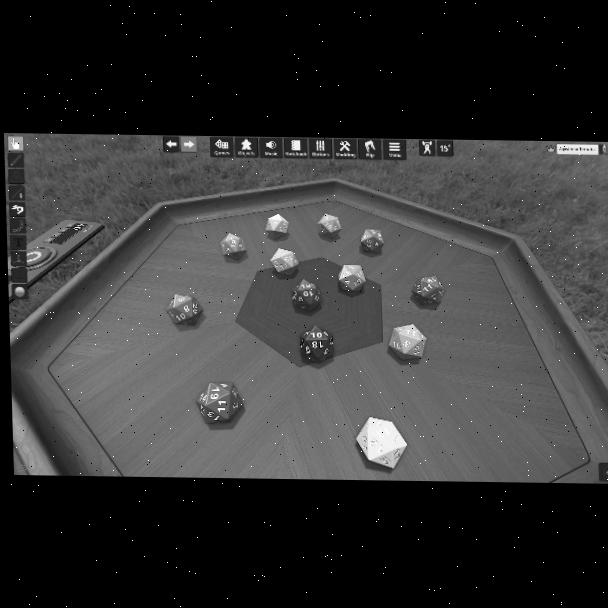d20: (356, 417, 408, 468), (196, 381, 243, 425), (388, 325, 426, 361), (297, 325, 333, 362), (166, 294, 204, 327), (411, 274, 444, 304), (289, 280, 320, 311), (270, 248, 300, 276), (220, 234, 247, 261), (338, 265, 364, 291), (265, 215, 290, 239), (360, 229, 384, 254), (318, 214, 339, 238)
